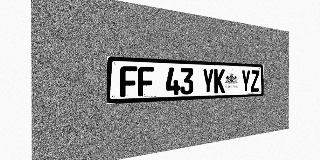3: (180, 68, 193, 95)
4: (166, 67, 180, 95)
F: (120, 66, 137, 97), (138, 66, 154, 96)
K: (214, 69, 225, 93)
Y: (202, 68, 214, 94), (241, 70, 250, 92)
Z: (251, 70, 259, 92)
